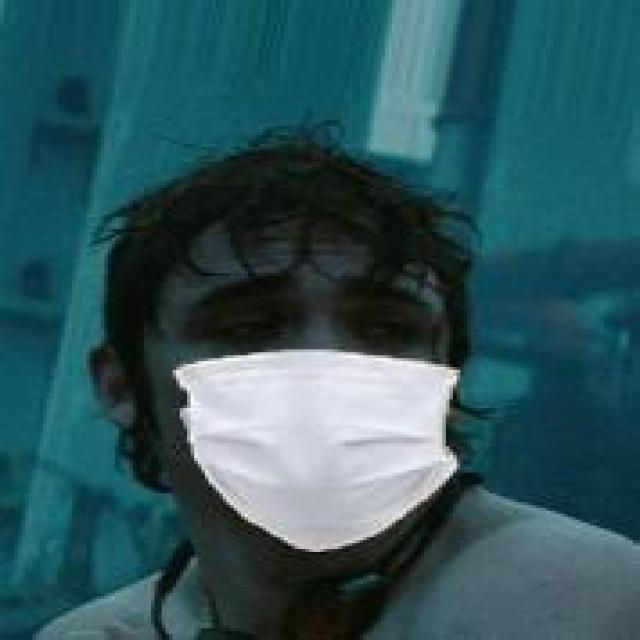mask: (79, 106, 511, 575)
